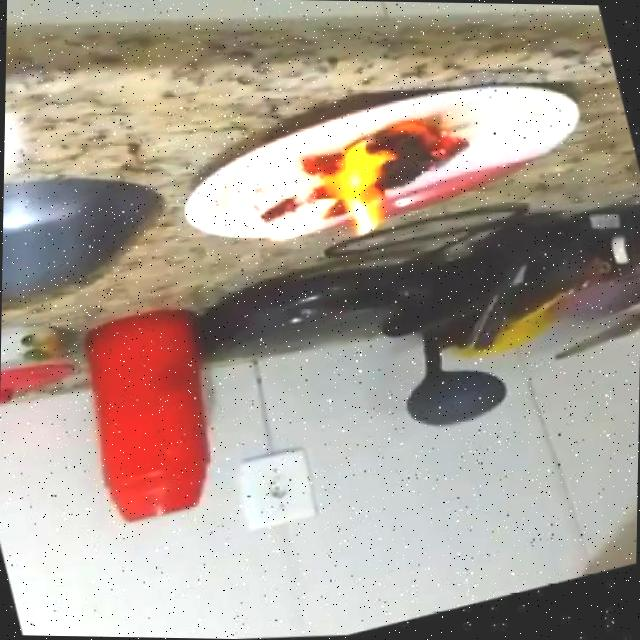fire: (247, 108, 490, 268)
